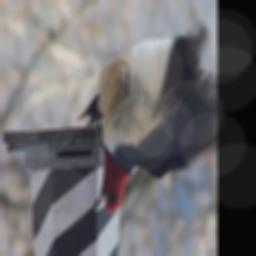Woodpecker: (81, 29, 217, 224)
